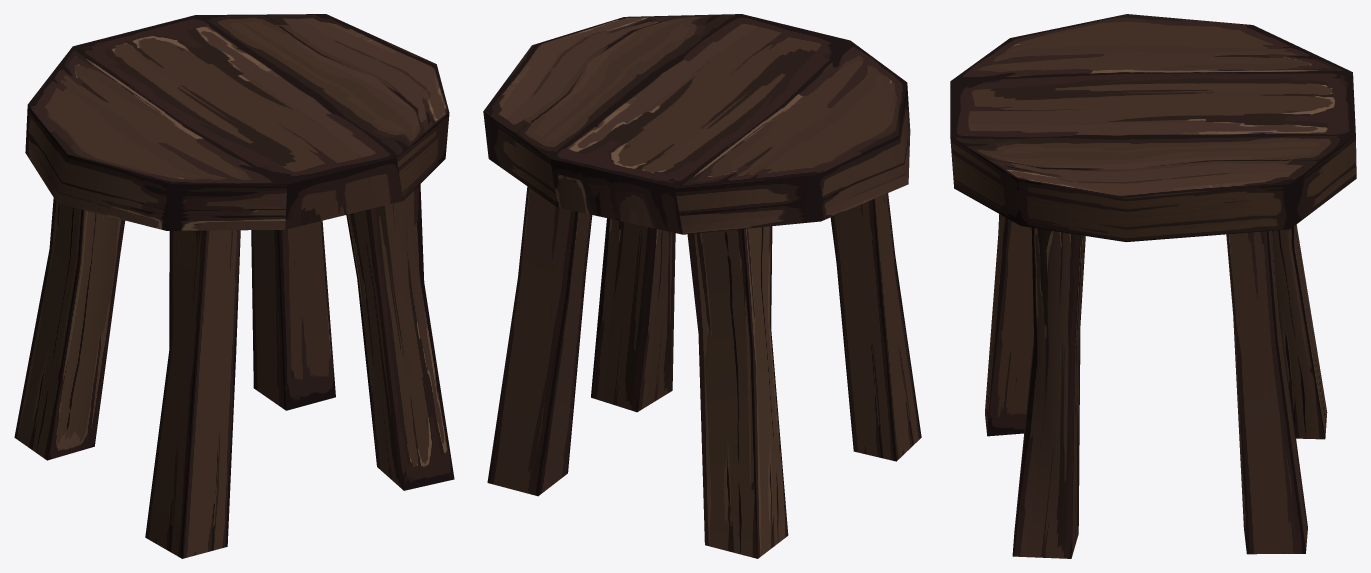
The model's file is SM_PROP_stool_01_dungeon.fbx.
The picture shows the model from 3 angles, left to right: view 1: azimuth 30°, elevation 25°; view 2: azimuth 150°, elevation 25°; view 3: azimuth 270°, elevation 25°; orthographic projection. The views are drawn at different scales.
Parts seen in each view (by area): view 1: SM_PROP_stool_01_dungeon; view 2: SM_PROP_stool_01_dungeon; view 3: SM_PROP_stool_01_dungeon.
Part boxes in pixels (bbox=[...]): SM_PROP_stool_01_dungeon: bbox=[14, 14, 454, 558]; SM_PROP_stool_01_dungeon: bbox=[483, 14, 921, 558]; SM_PROP_stool_01_dungeon: bbox=[950, 14, 1356, 558].
Size of the model in its own units: 41.31 by 38.09 by 37.27.
